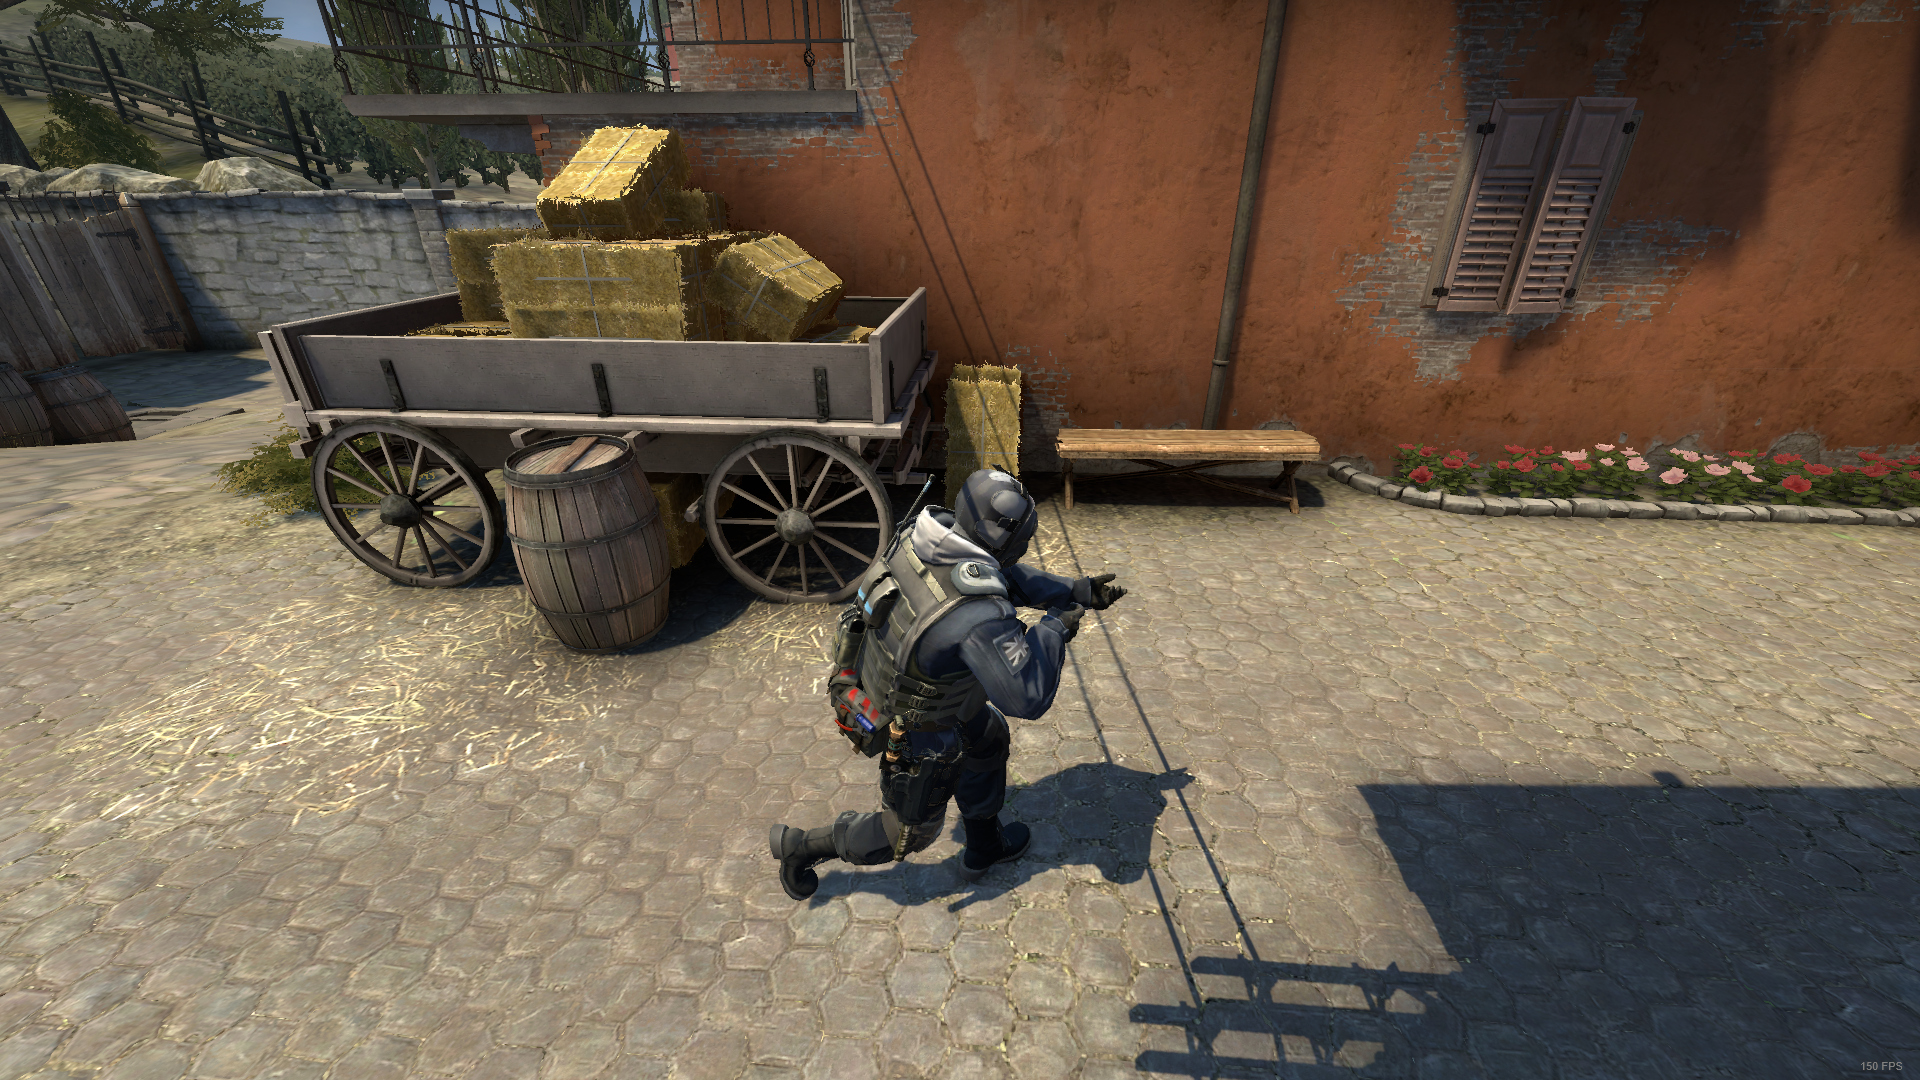ct: (770, 463, 1130, 899)
